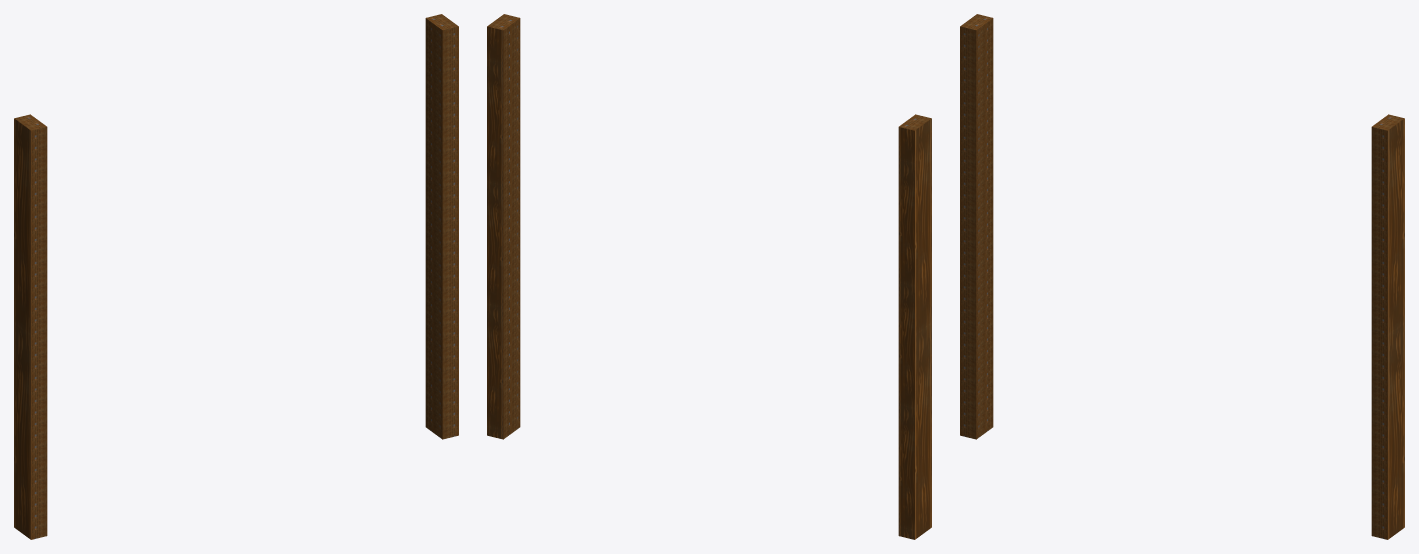
3 views of the same model, side by side, from view 1: azimuth 30°, elevation 25°; view 2: azimuth 150°, elevation 25°; view 3: azimuth 330°, elevation 25° (orthographic).
Visible parts, largest first — view 1: Cube.1564; view 2: Cube.1564; view 3: Cube.1564.
Boxes of the visible parts, box(x1,y1,x2,y2) form: Cube.1564: box(14, 14, 458, 539); Cube.1564: box(487, 14, 931, 539); Cube.1564: box(960, 14, 1404, 539).
Size of the model in its own units: 999 by 913 by 68.66.
1 material, 1 textured.
